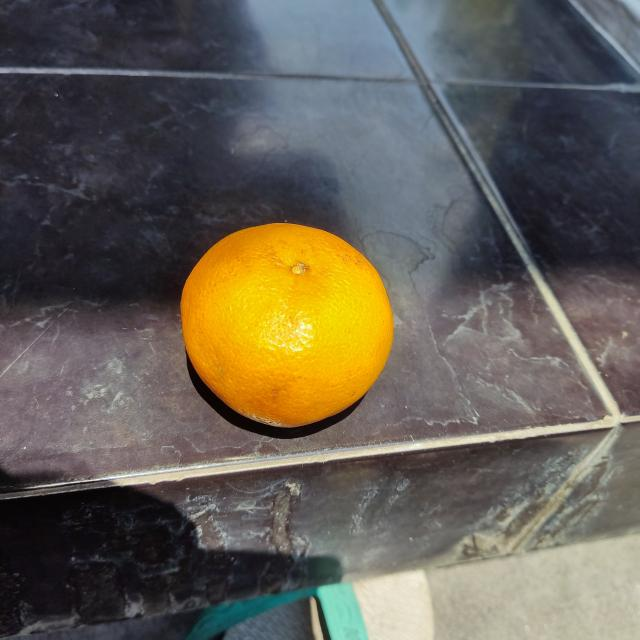orange: (182, 219, 396, 430)
